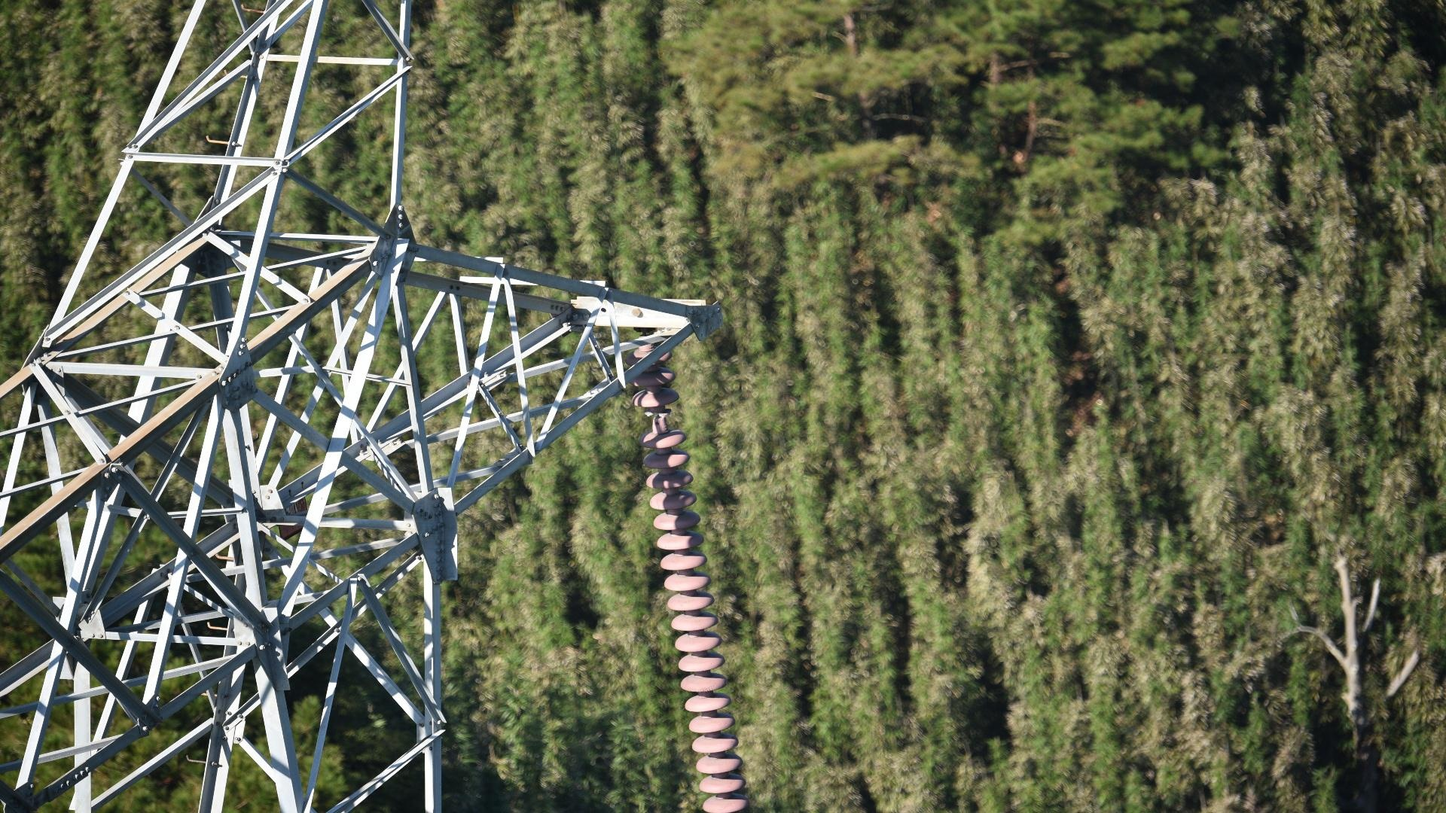insulator: (624, 341, 755, 813)
